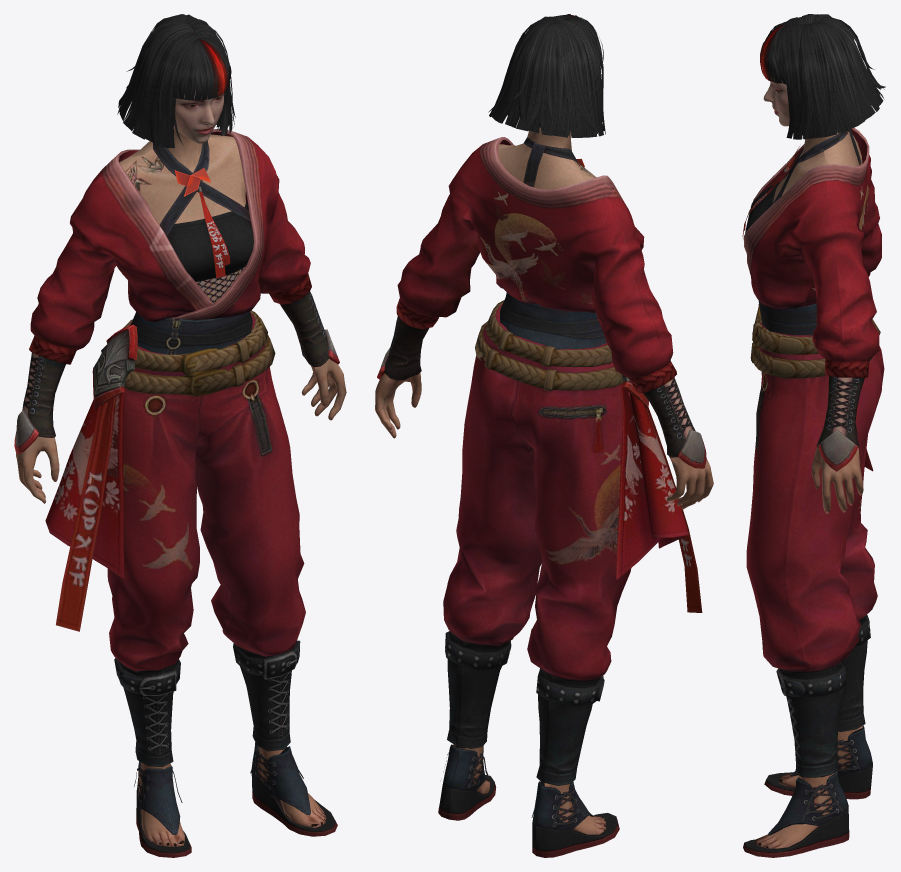
Rendered from kunoichi.fbx.
The picture shows the model from 3 angles, left to right: view 1: azimuth 30°, elevation 25°; view 2: azimuth 150°, elevation 25°; view 3: azimuth 270°, elevation 25°; orthographic projection. The views are drawn at different scales.
Parts seen in each view (by area): view 1: Object_5, Object_4, Object_7, Object_2, Object_6; view 2: Object_5, Object_4, Object_2, Object_6, Object_7; view 3: Object_5, Object_4, Object_2, Object_6, Object_7.
Boxes of the visible parts, bbox=[...] form: Object_5: bbox=[45, 310, 305, 767]; Object_4: bbox=[14, 129, 339, 454]; Object_7: bbox=[16, 89, 346, 846]; Object_2: bbox=[117, 14, 235, 148]; Object_6: bbox=[134, 742, 337, 857]; Object_5: bbox=[443, 300, 702, 785]; Object_4: bbox=[377, 137, 706, 468]; Object_2: bbox=[488, 14, 605, 137]; Object_6: bbox=[438, 744, 619, 857]; Object_7: bbox=[375, 127, 713, 834]; Object_5: bbox=[746, 304, 884, 777]; Object_4: bbox=[742, 127, 881, 471]; Object_2: bbox=[760, 14, 885, 139]; Object_6: bbox=[743, 725, 872, 857]; Object_7: bbox=[754, 72, 863, 848].
Bounding box in the file's own units: 181 × 435 × 72.61.
5 materials, 5 textured.
